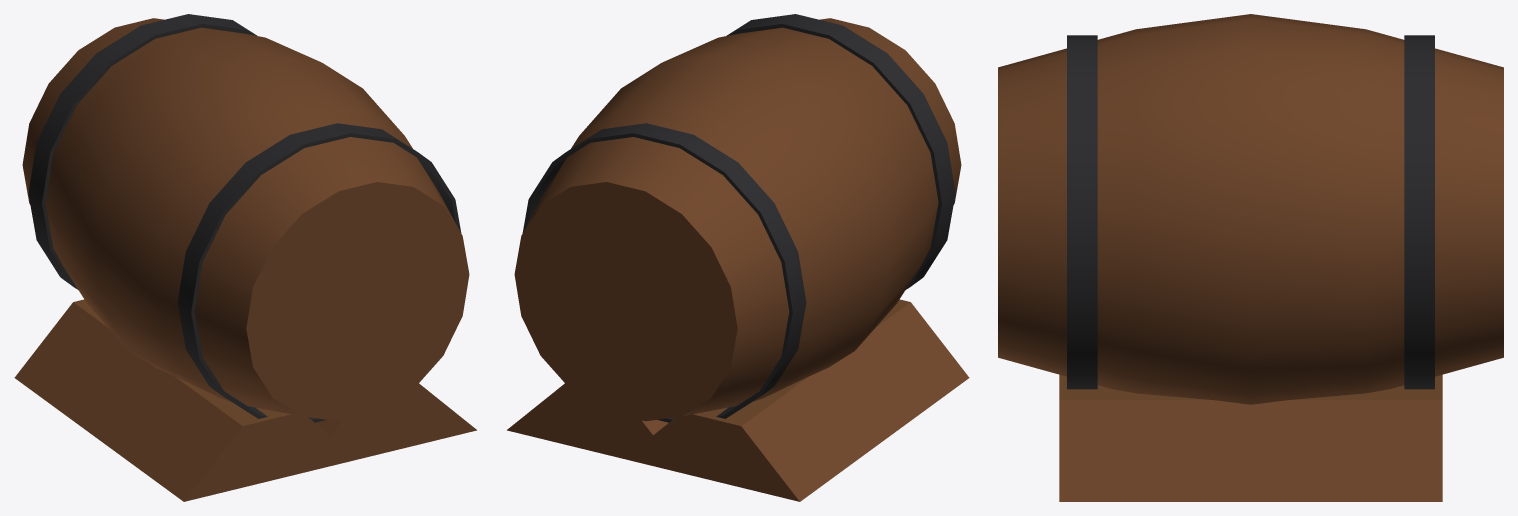
The model's file is hospitality.pub.cask.glb.
3 views of the same model, side by side, from view 1: azimuth 30°, elevation 25°; view 2: azimuth 150°, elevation 25°; view 3: azimuth 270°, elevation 25° (orthographic). The views are drawn at different scales.
Parts seen in each view (by area): view 1: main__hardwood, main__cast_iron; view 2: main__hardwood, main__cast_iron; view 3: main__hardwood, main__cast_iron.
Part boxes in pixels (box(x1,y1,x2,y2)): main__hardwood: box(14, 18, 476, 501); main__cast_iron: box(28, 14, 461, 422); main__hardwood: box(507, 18, 969, 501); main__cast_iron: box(522, 14, 955, 422); main__hardwood: box(998, 14, 1503, 501); main__cast_iron: box(1067, 35, 1434, 389).
Bounding box in the file's own units: 0.52 × 0.5561 × 0.66.
